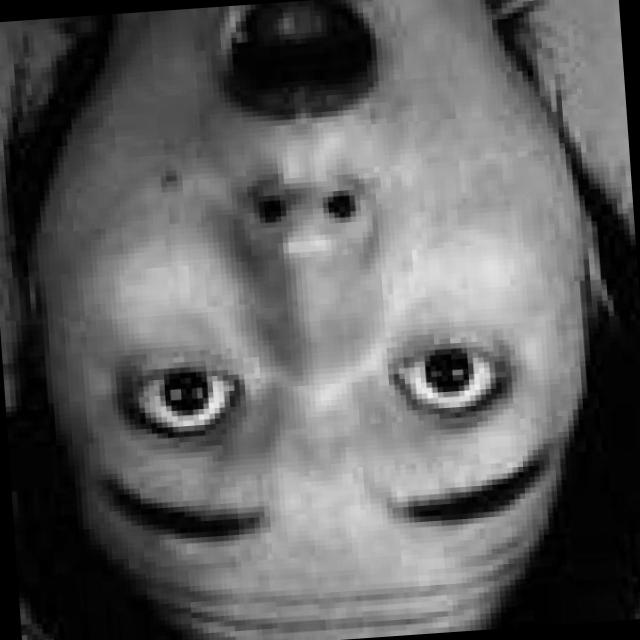surprise: (26, 0, 615, 617)
